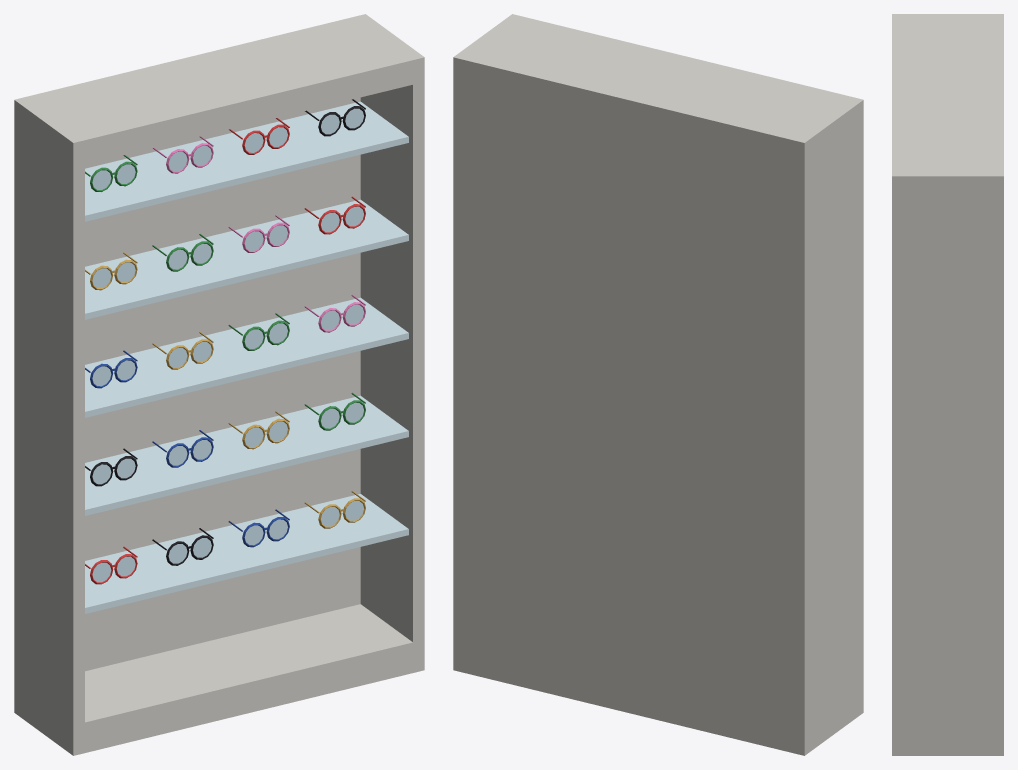
Rendered from glasses_display.glb.
3 renders of one model, left to right at view 1: azimuth 30°, elevation 25°; view 2: azimuth 150°, elevation 25°; view 3: azimuth 270°, elevation 25°, orthographic. The views are drawn at different scales.
Parts seen in each view (by area): view 1: back_display_white, side_display_white, shelf_display_shelf, top_display_white, base_display_white; view 2: back_display_white, side_display_white, top_display_white, base_display_white; view 3: side_display_white, top_display_white, back_display_white, base_display_white.
Boxes of the visible parts, left/top/right/bottom form: back_display_white: left=14, top=14, right=371, bottom=717; side_display_white: left=14, top=14, right=424, bottom=755; shelf_display_shelf: left=85, top=101, right=408, bottom=613; top_display_white: left=14, top=14, right=424, bottom=166; base_display_white: left=14, top=604, right=424, bottom=753; back_display_white: left=453, top=52, right=811, bottom=755; side_display_white: left=453, top=14, right=863, bottom=755; top_display_white: left=453, top=14, right=863, bottom=166; base_display_white: left=453, top=639, right=863, bottom=752; side_display_white: left=892, top=14, right=1003, bottom=755; top_display_white: left=892, top=14, right=1003, bottom=199; back_display_white: left=991, top=14, right=1003, bottom=755; base_display_white: left=892, top=727, right=1003, bottom=755.
Bounding box in the file's own units: 1.2 × 2 × 0.35.
